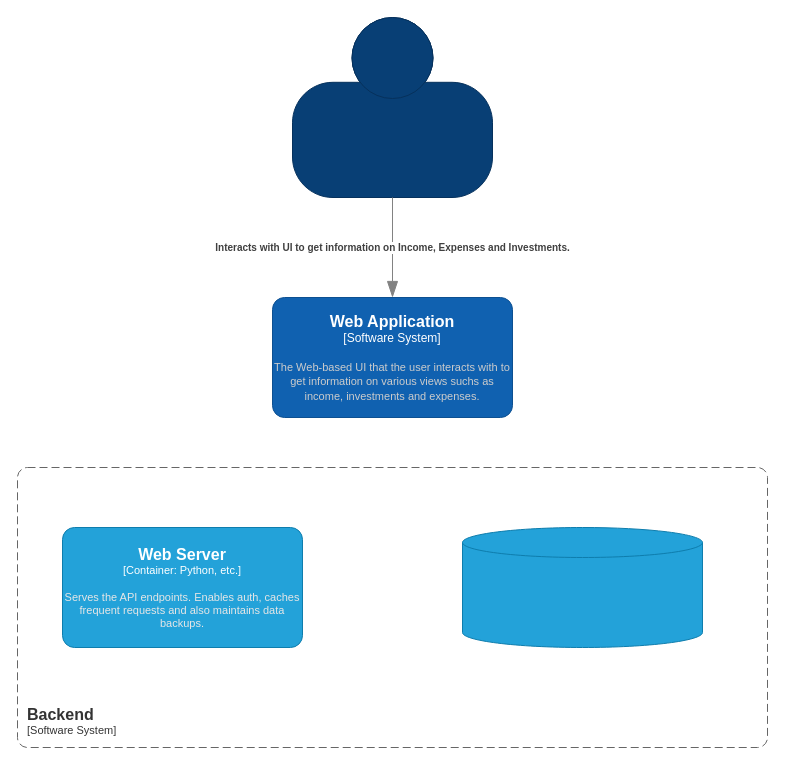
Some shapes in this 785 by 765 pixel diagram are drawn without their labels. Each missing label, with the centre of its shape:
Finance DB [Container: SQL] Stores the financial records in a protected manner: the point at 582,587
User [Person] Person using the app: the point at 392,107
